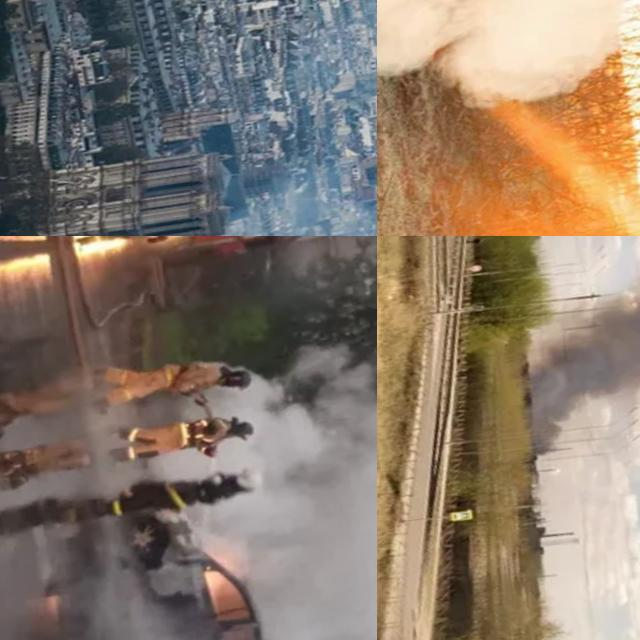smoke: (115, 332, 377, 640), (377, 0, 640, 146), (518, 269, 640, 465), (109, 169, 377, 236)
